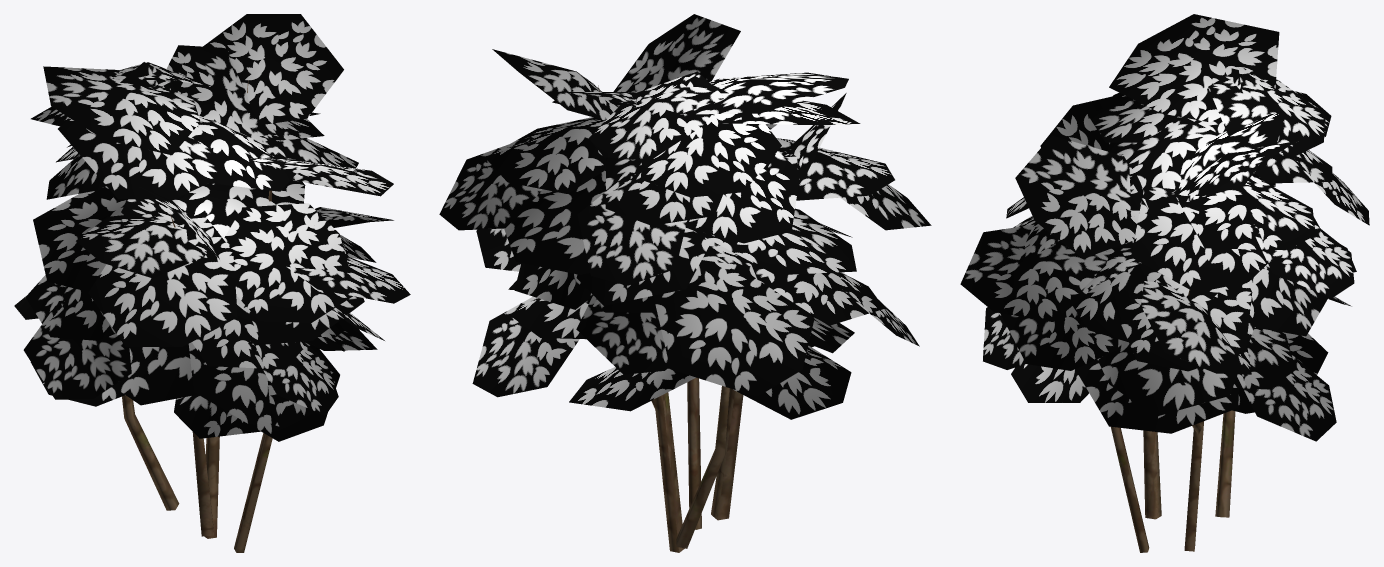
The model's file is P_BambooBush01.obj.
3 renders of one model, left to right at view 1: azimuth 30°, elevation 25°; view 2: azimuth 150°, elevation 25°; view 3: azimuth 270°, elevation 25°, orthographic. The views are drawn at different scales.
Bounding box in the file's own units: 2.91 × 3.54 × 2.86.
